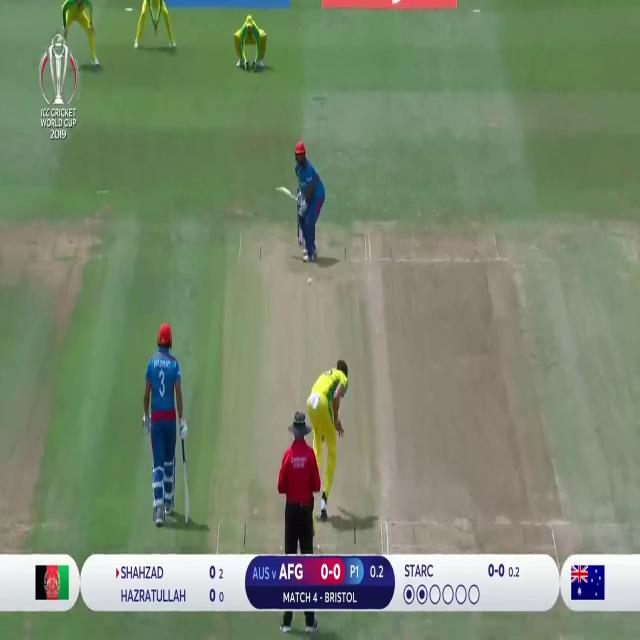ball: (306, 274, 312, 284)
